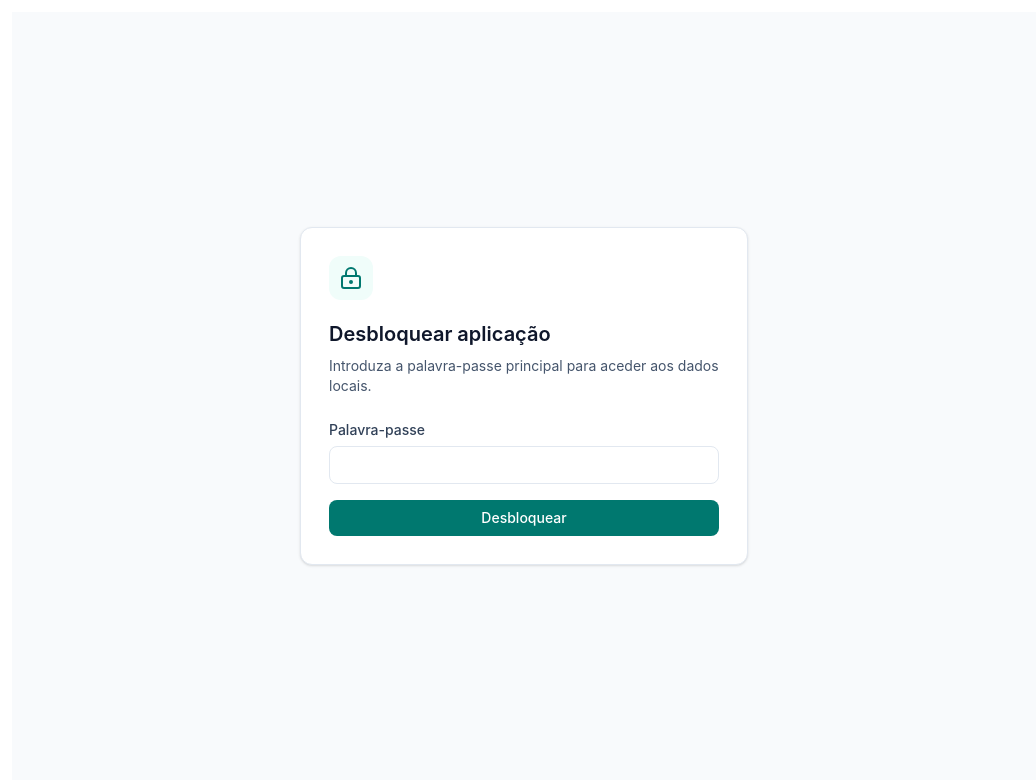
Scenario: respeita a definição de bloqueio ao ocultar a página: false
Step 1. Type "palavra-passe-ficticia-segura" into the password field labelled "Palavra-passe" → (524, 465), box [329,446,719,484]
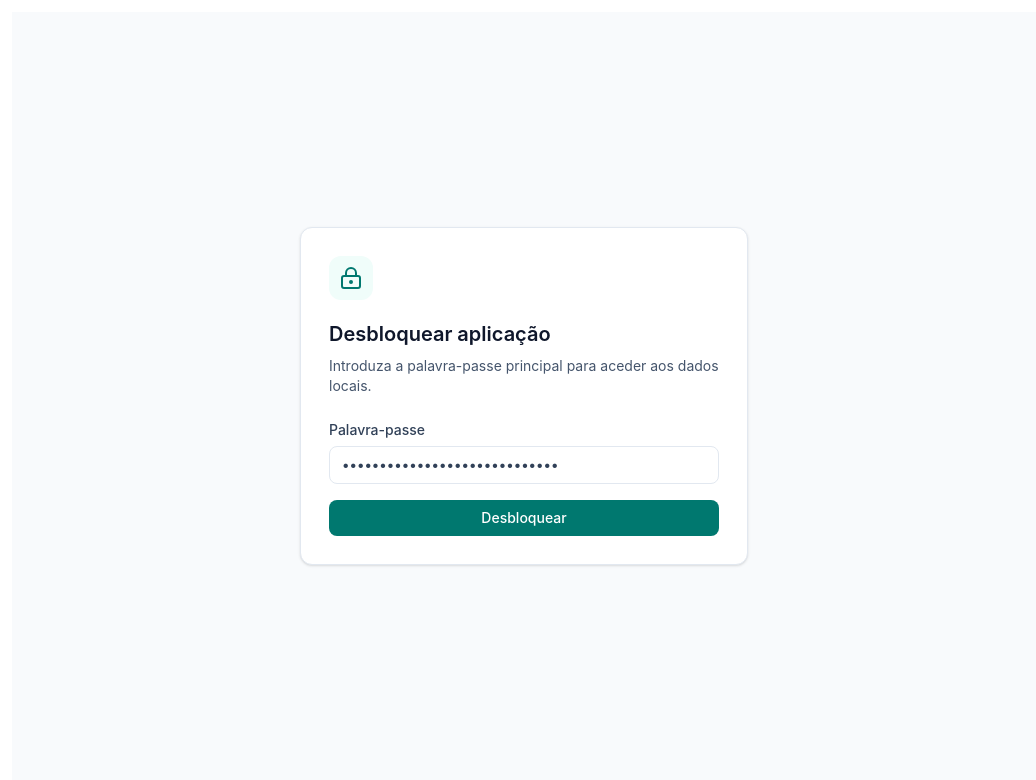
Step 2. Click the button "Desbloquear" → click(524, 518), box [329,500,719,536]
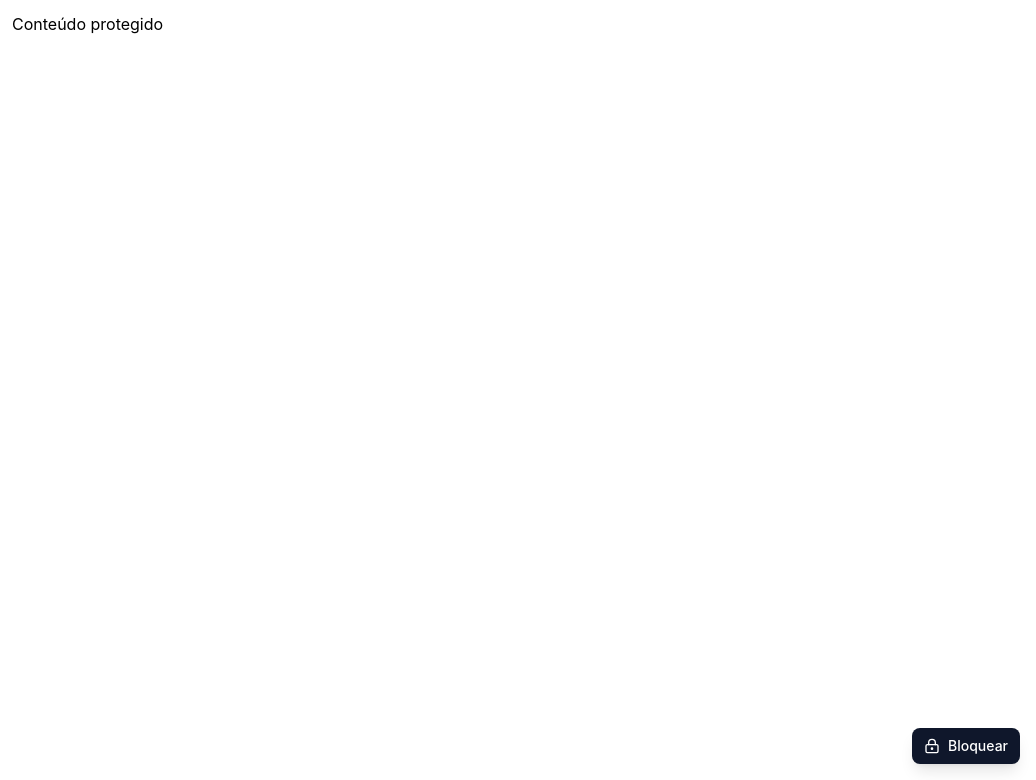
Check: the text "Conteúdo protegido" is shown, box [12,14,163,34]
